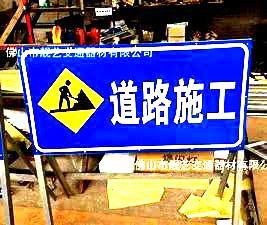sign: (19, 49, 242, 147)
